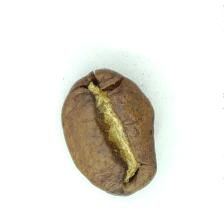NG: (82, 75, 160, 190)
